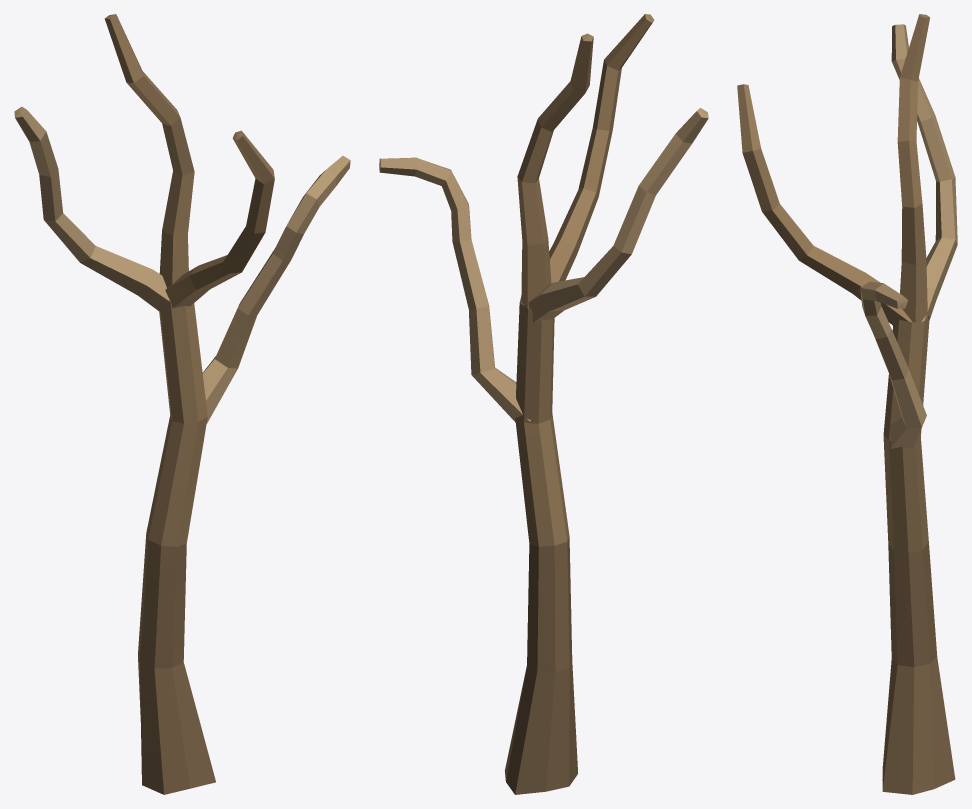
Rendered from naked_tree_6.fbx.
3 renders of one model, left to right at view 1: azimuth 30°, elevation 25°; view 2: azimuth 150°, elevation 25°; view 3: azimuth 270°, elevation 25°, orthographic. The views are drawn at different scales.
Visible parts, largest first — view 1: naked_tree_6; view 2: naked_tree_6; view 3: naked_tree_6.
Part boxes in pixels (x1,y1,x2,y2): naked_tree_6: (14, 14, 350, 794); naked_tree_6: (379, 14, 708, 794); naked_tree_6: (737, 14, 957, 794).
Size of the model in its own units: 301 by 664 by 180.
